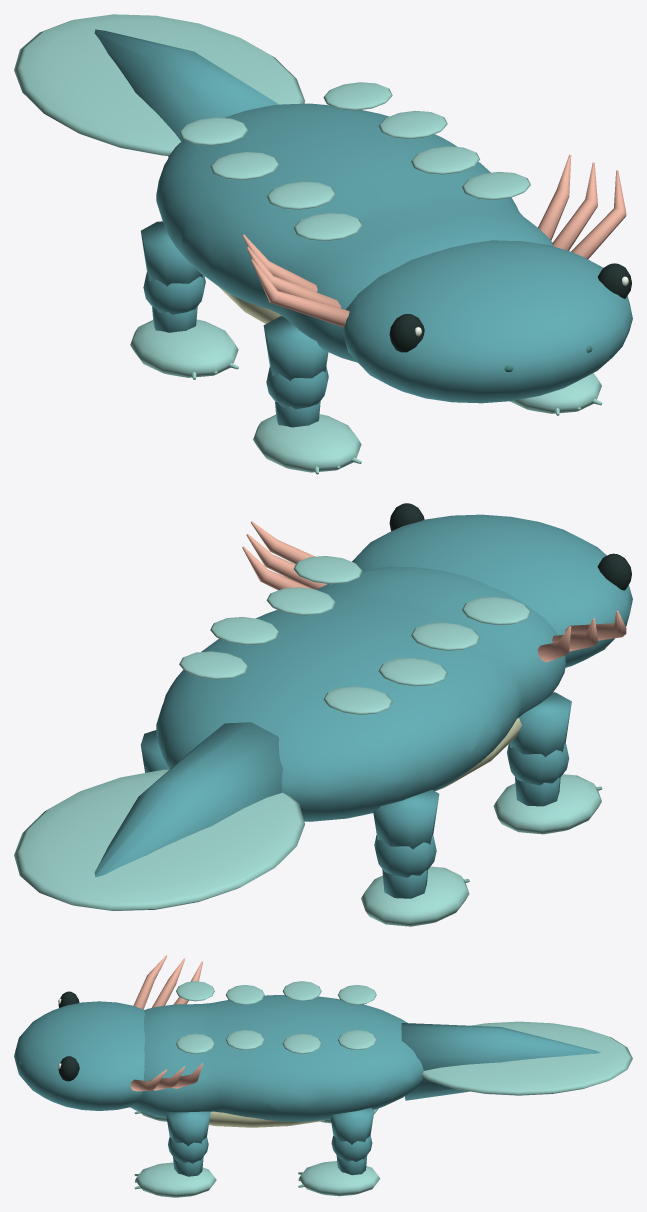
The model's file is tideback.glb.
3 renders of one model, top to bottom at view 1: azimuth 30°, elevation 25°; view 2: azimuth 150°, elevation 25°; view 3: azimuth 270°, elevation 25°, orthographic. The views are drawn at different scales.
Parts seen in each view (by area): view 1: TidebackTorso, BroadHead, TailPaddle, PaddleSpine, SpeciesFoot.014, SpeciesFoot.016, UpperLeg.014, UpperLeg.016, SpeciesFoot.015, KneeJoint.016, KneeJoint.014, GillFrill (+17 smaller); view 2: TidebackTorso, TailPaddle, BroadHead, PaddleSpine, SpeciesFoot.016, SpeciesFoot.014, UpperLeg.016, UpperLeg.014, KneeJoint.016, KneeJoint.014, TideMark, TideMark.001 (+17 smaller); view 3: TidebackTorso, BroadHead, TailPaddle, PaddleSpine, SpeciesFoot.017, SpeciesFoot.015, UpperLeg.015, UpperLeg.017, TidebackUnderbelly, KneeJoint.015, KneeJoint.017, TideMark.003 (+13 smaller).
Boxes of the visible parts, left/top/right/bottom form: TidebackTorso: left=156, top=103, right=552, bottom=362; BroadHead: left=342, top=240, right=632, bottom=403; TailPaddle: left=14, top=14, right=304, bottom=155; PaddleSpine: left=94, top=29, right=278, bottom=156; SpeciesFoot.014: left=253, top=414, right=361, bottom=472; SpeciesFoot.016: left=130, top=319, right=238, bottom=377; UpperLeg.014: left=263, top=316, right=328, bottom=381; UpperLeg.016: left=141, top=221, right=202, bottom=286; SpeciesFoot.015: left=510, top=373, right=601, bottom=413; KneeJoint.016: left=143, top=272, right=205, bottom=314; KneeJoint.014: left=266, top=366, right=328, bottom=409; GillFrill: left=251, top=259, right=349, bottom=327; TidebackTorso: left=156, top=566, right=565, bottom=821; TailPaddle: left=14, top=769, right=304, bottom=910; BroadHead: left=352, top=514, right=632, bottom=667; PaddleSpine: left=94, top=722, right=283, bottom=877; SpeciesFoot.016: left=361, top=866, right=469, bottom=926; SpeciesFoot.014: left=493, top=774, right=601, bottom=834; UpperLeg.016: left=373, top=790, right=439, bottom=849; UpperLeg.014: left=509, top=692, right=571, bottom=757; KneeJoint.016: left=374, top=835, right=436, bottom=877; KneeJoint.014: left=507, top=742, right=569, bottom=785; TideMark: left=323, top=686, right=392, bottom=714; TideMark.001: left=378, top=658, right=447, bottom=686; TidebackTorso: left=130, top=995, right=423, bottom=1121; BroadHead: left=14, top=1001, right=145, bottom=1110; TailPaddle: left=421, top=1021, right=632, bottom=1095; PaddleSpine: left=401, top=1023, right=600, bottom=1100; SpeciesFoot.017: left=298, top=1161, right=380, bottom=1196; SpeciesFoot.015: left=135, top=1162, right=216, bottom=1197; UpperLeg.015: left=166, top=1111, right=210, bottom=1146; UpperLeg.017: left=330, top=1108, right=374, bottom=1144; TidebackUnderbelly: left=209, top=1111, right=325, bottom=1127; KneeJoint.015: left=168, top=1137, right=208, bottom=1163; KneeJoint.017: left=331, top=1136, right=372, bottom=1161; TideMark.003: left=176, top=981, right=214, bottom=1001.
Size of the model in its own units: 1.53 by 0.8774 by 3.48.
